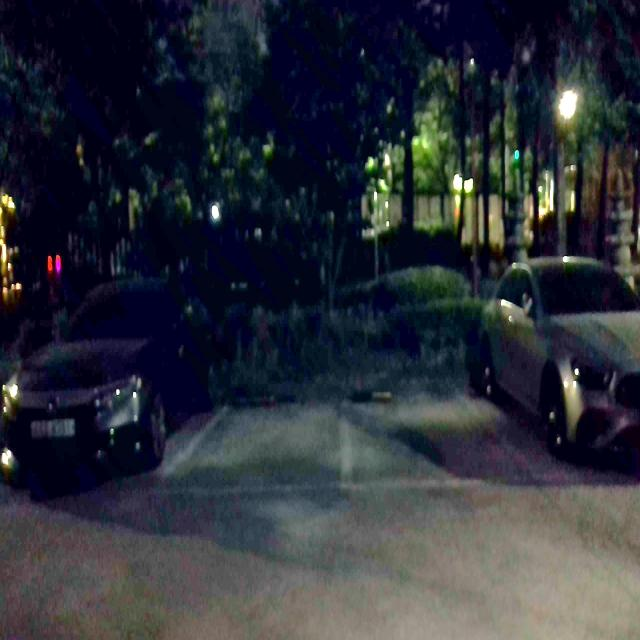empty: (340, 384, 552, 483), (168, 392, 348, 489)
occupied: (0, 267, 152, 469), (572, 266, 640, 476)
